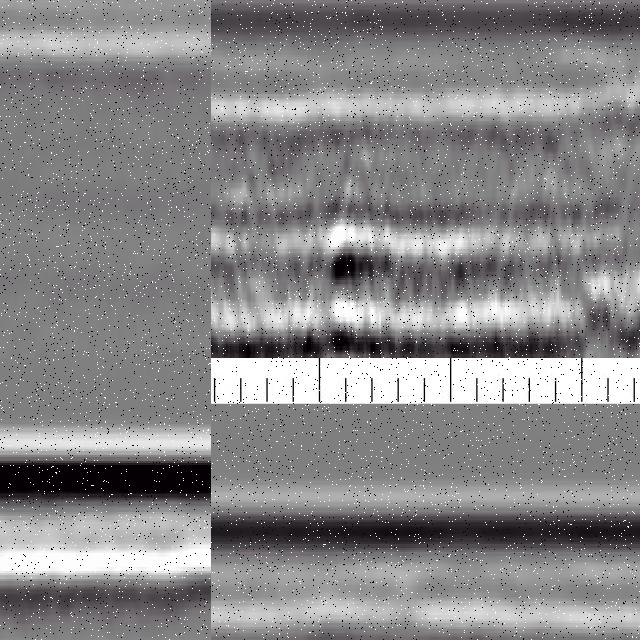loose: (287, 202, 403, 359), (1, 539, 139, 640)
